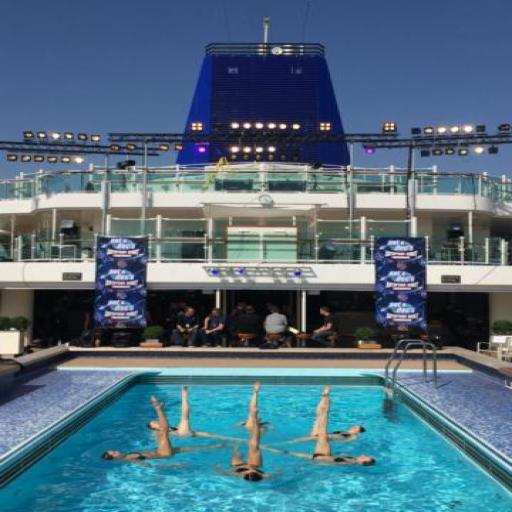swimming: (260, 383, 378, 470), (97, 392, 226, 468), (214, 379, 280, 484)
